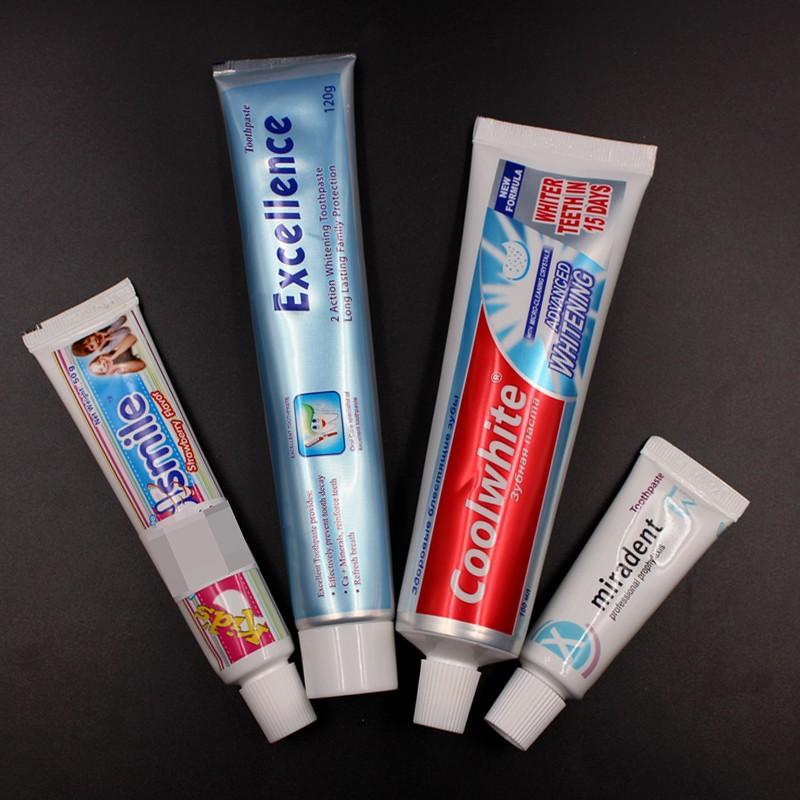toothpaste: (389, 117, 673, 748), (7, 271, 330, 749), (200, 44, 423, 704), (478, 428, 780, 763)
